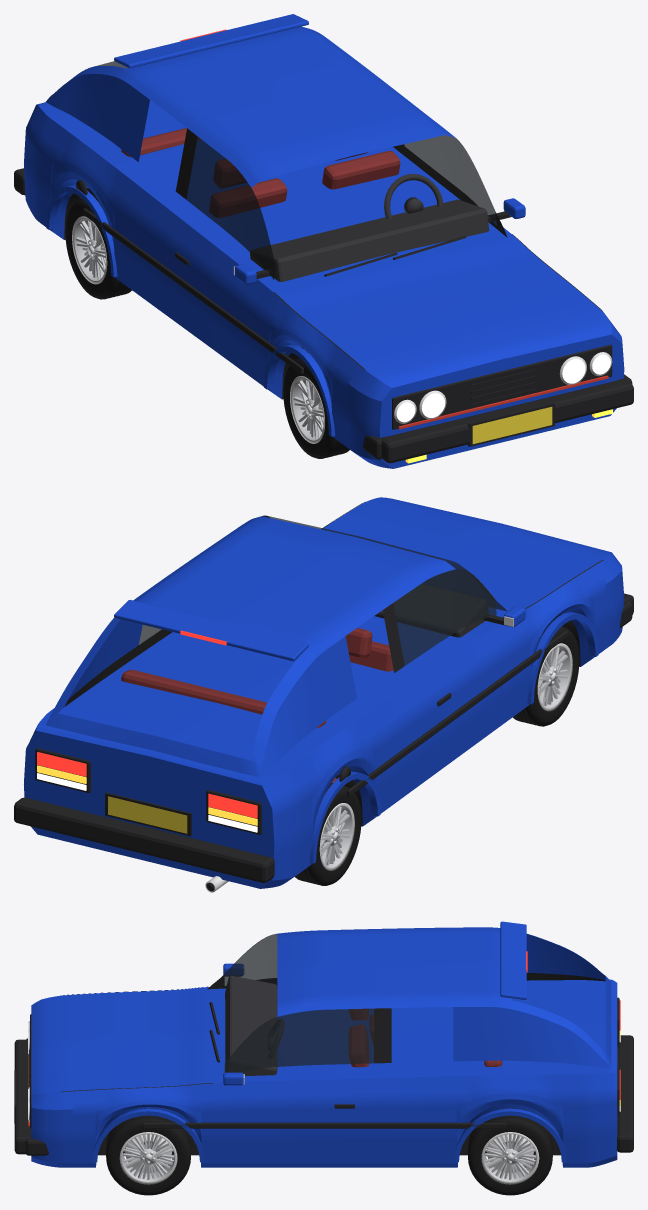
Rendered from golv.glb.
3 renders of one model, top to bottom at view 1: azimuth 30°, elevation 25°; view 2: azimuth 150°, elevation 25°; view 3: azimuth 270°, elevation 25°, orthographic. The views are drawn at different scales.
Visible parts, largest first — view 1: cabin_roof, hood, tub, nose, door_R, quarter_R, dash, cabin_glass, fender_R, bumper_front, grille, wheel_FR (+16 smaller); view 2: cabin_roof, tub, tail, hood, door_R, quarter_R, bumper_rear, cabin_glass, fender_R, spoiler, dash, wheel_RR (+16 smaller); view 3: cabin_roof, tub, door_L, hood, quarter_L, cabin_glass, fender_L, wheel_RL, wheel_FL, nose, dash, tail (+9 smaller).
Part boxes in pixels (x1,y1,x2,y2): cabin_roof: (46,26,455,187); hood: (274,234,602,369); tub: (46,100,511,291); nose: (353,312,624,468); door_R: (151,206,273,385); quarter_R: (34,115,163,305); dash: (250,199,489,281); cabin_glass: (94,61,496,279); fender_R: (261,293,364,458); bumper_front: (381,379,633,463); grille: (392,344,612,429); wheel_FR: (283,359,349,458); cabin_roof: (46,516,455,777); tub: (46,611,503,772); tail: (24,714,295,888); hood: (322,502,601,614); door_R: (402,624,523,789); quarter_R: (283,690,414,883); bumper_rear: (14,797,274,882); cabin_glass: (138,516,506,665); fender_R: (516,560,615,709); spoiler: (114,600,308,661); dash: (374,584,488,637); wheel_RR: (295,783,361,885); cabin_roof: (277,927,611,1068); tub: (213,980,590,1083); door_L: (213,1077,394,1167); hood: (60,987,212,1091); quarter_L: (394,1074,590,1167); cabin_glass: (224,934,373,1072); fender_L: (60,1083,212,1167); wheel_RL: (468,1115,552,1195); wheel_FL: (106,1115,190,1195); nose: (31,995,60,1167); dash: (225,975,277,1076); tail: (591,979,617,1167).
Bounding box in the file's own units: 1.83 × 1.42 × 4.23.
